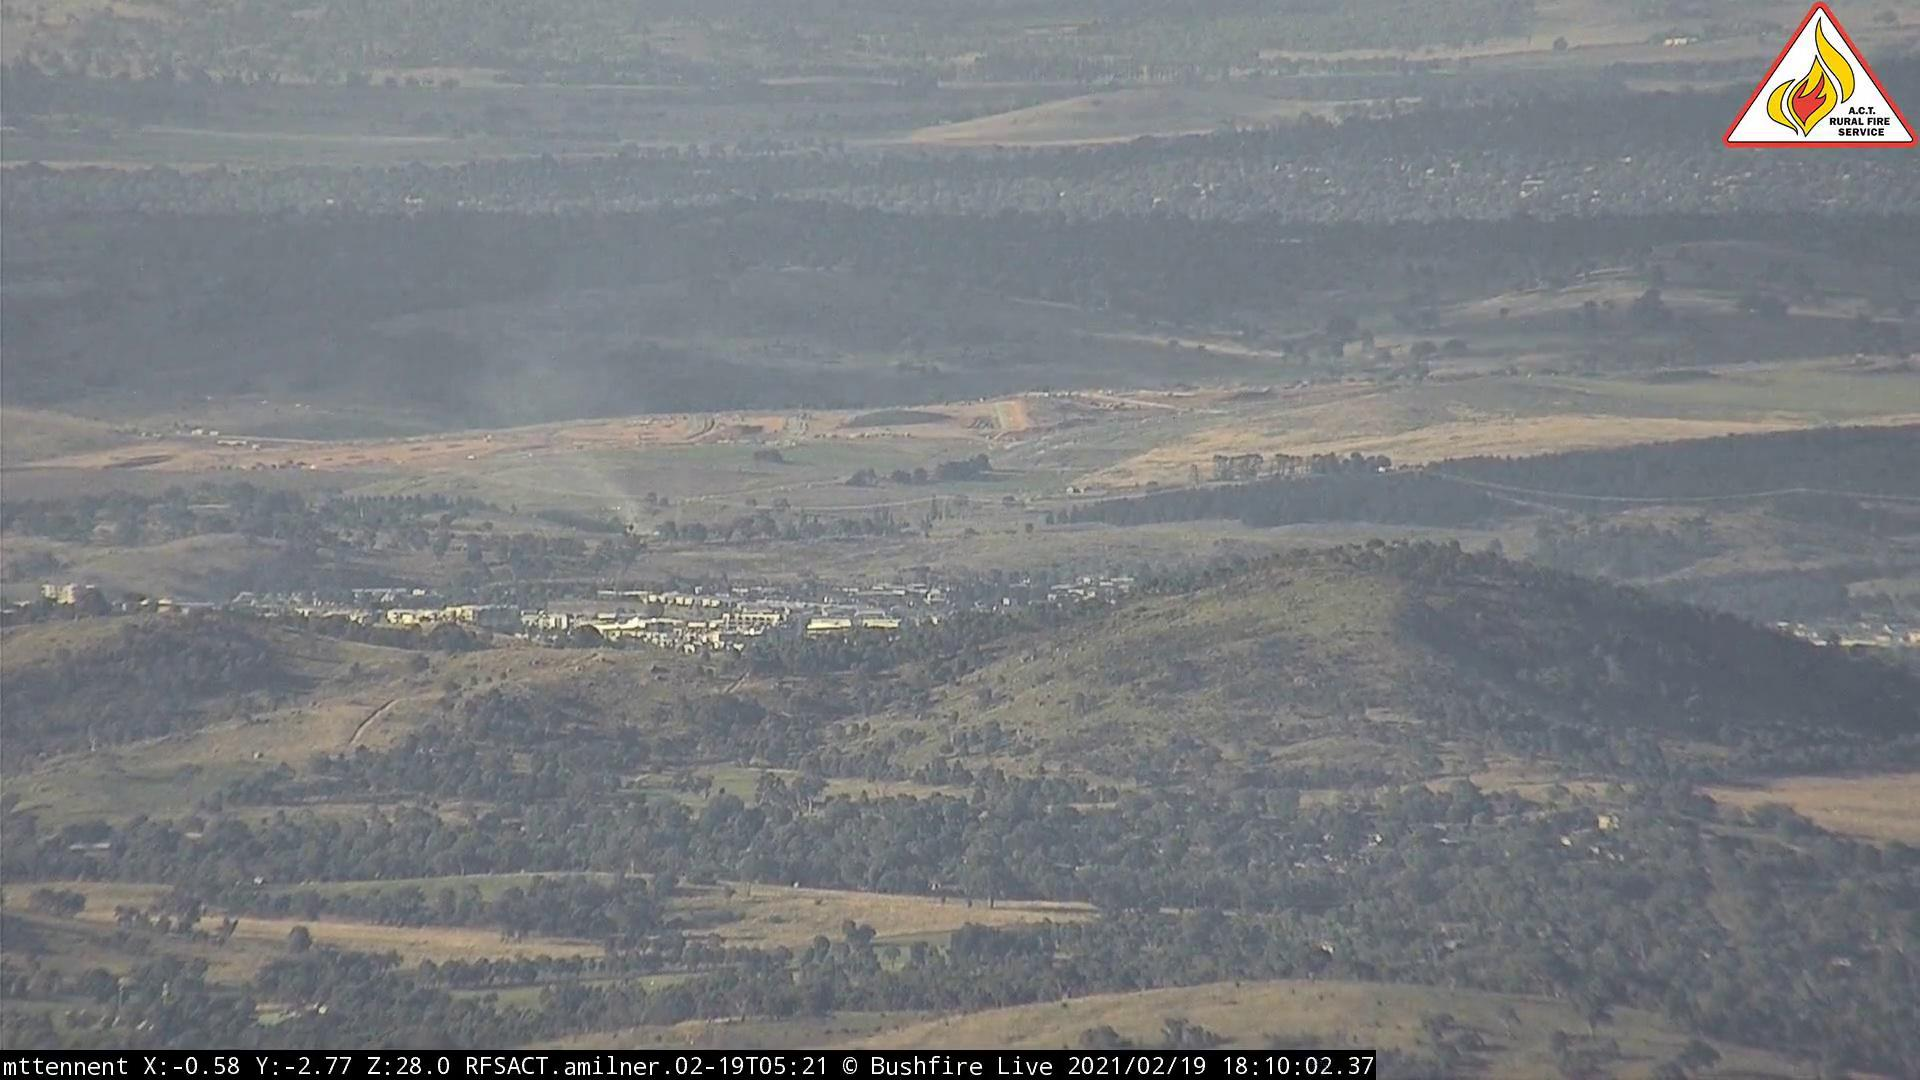Smoke: (601, 496, 669, 553)
